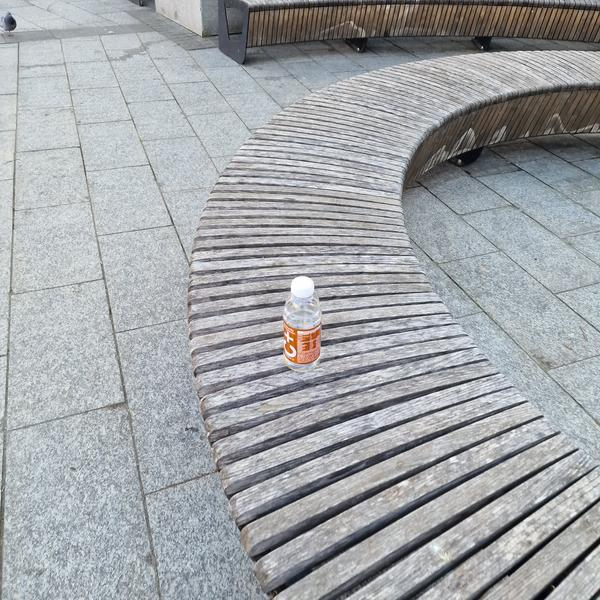plastic_bottle: (283, 275, 322, 374)
